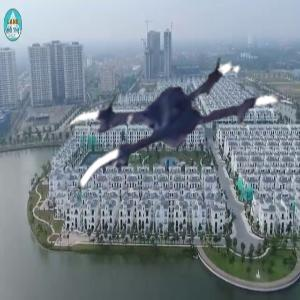drone: (67, 34, 281, 248)
